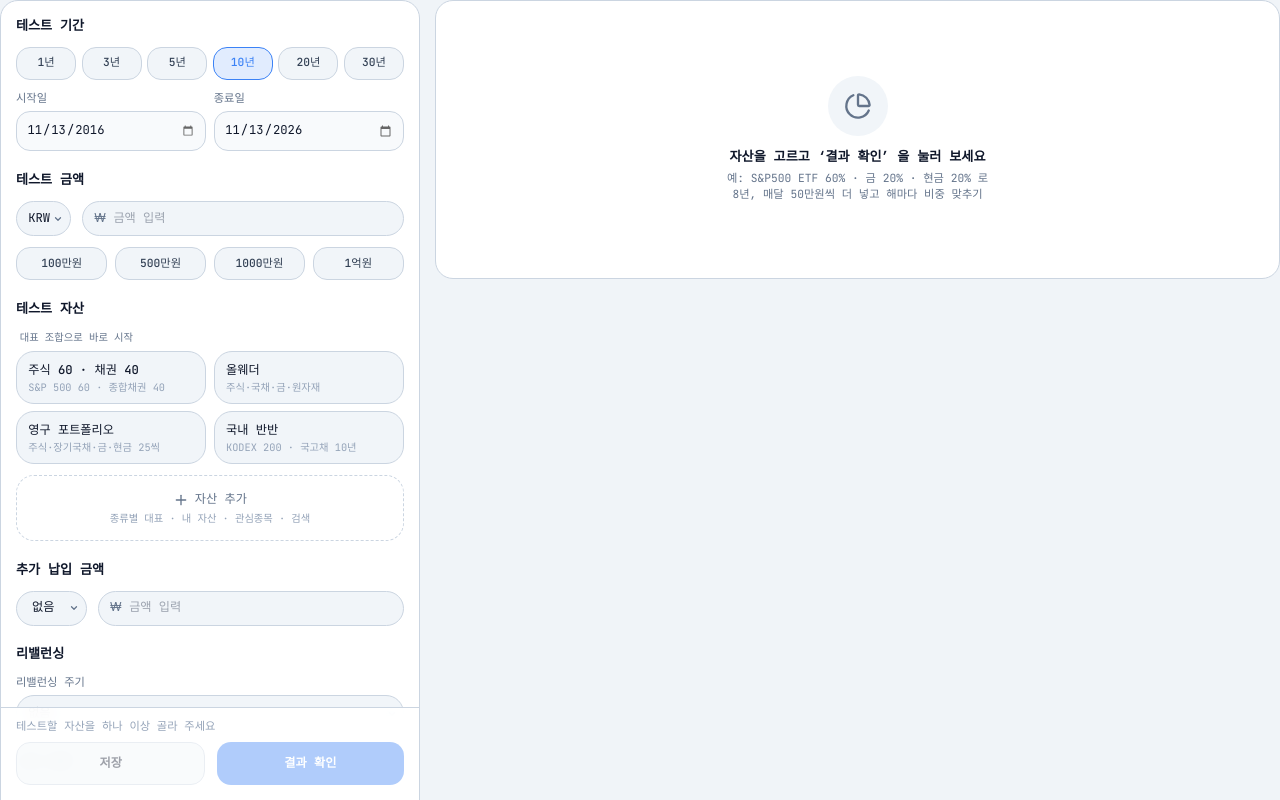
Test case: 사진의 항목이 다 있다 › 날짜를 손으로 고치면 칩이 풀린다 — 고른 기간과 날짜가 어긋난 채 칩이 눌려 있지 않게
In the date field labelled "시작일": (111,131) left=16, top=111, right=206, bottom=151, type "2019-03-01"
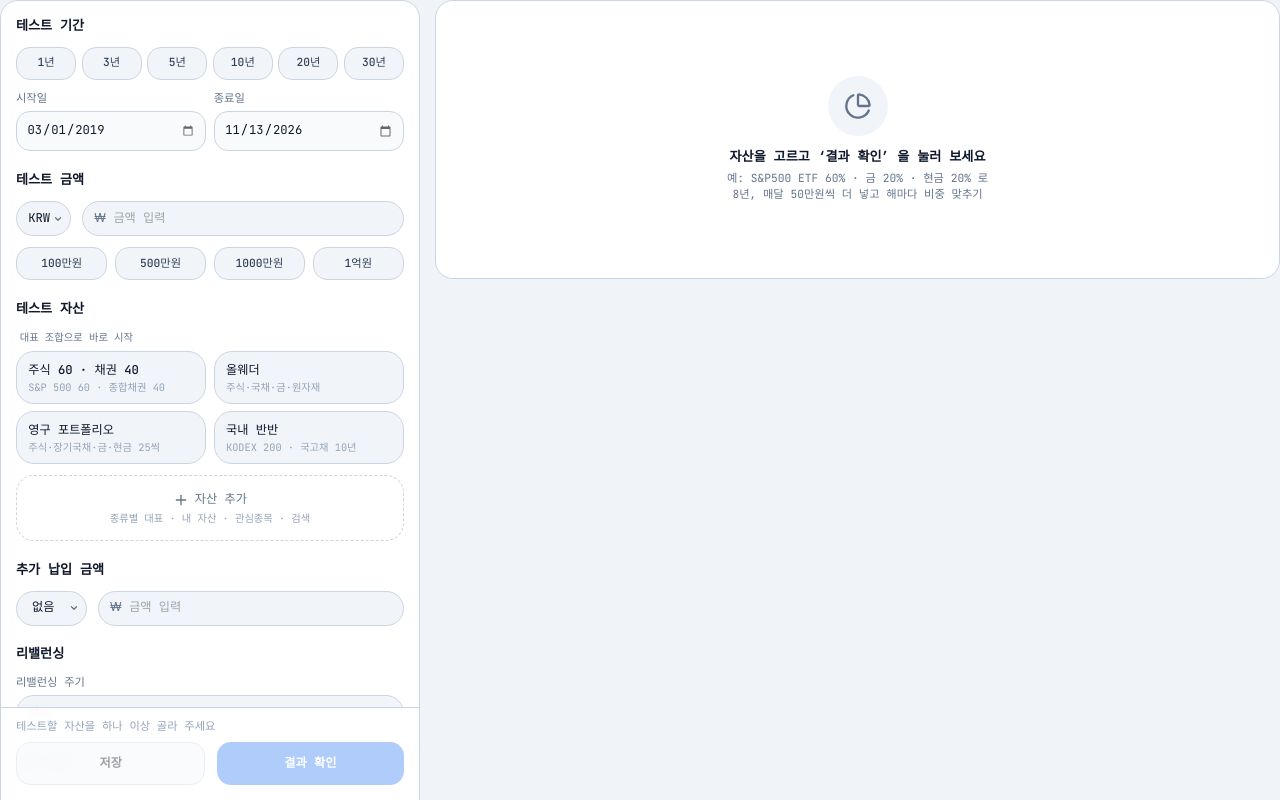
Result: the button labelled "10년" is not pressed at left=213, top=47, right=273, bottom=80
